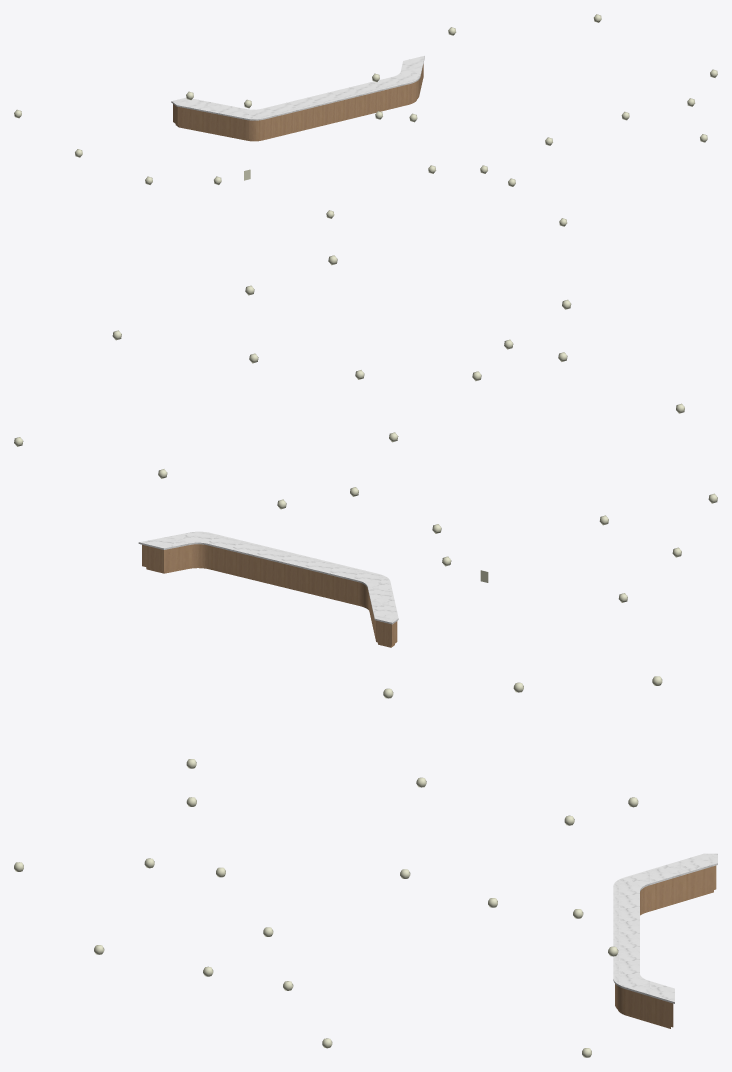
3 views of the same model, one above another, from view 1: azimuth 30°, elevation 25°; view 2: azimuth 150°, elevation 25°; view 3: azimuth 270°, elevation 25° (orthographic). The views are drawn at different scales.
Visible parts, largest first — view 1: Group005; view 2: Group005; view 3: Group005.
Part boxes in pixels (x1,y1,x2,y2): Group005: [171, 55, 424, 141]; Group005: [138, 531, 398, 647]; Group005: [613, 853, 717, 1028].
Bounding box in the file's own units: 861 × 135 × 710.
